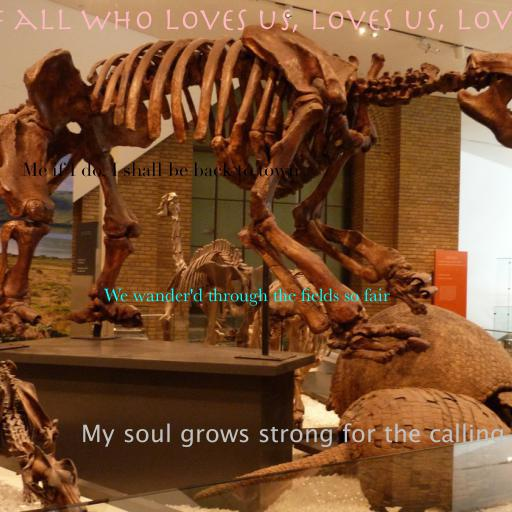Baskerville: (104, 288, 390, 306)
Didot: (21, 162, 299, 180)
Herculanum: (0, 9, 512, 33)
Lucida Grande: (81, 423, 505, 447)
